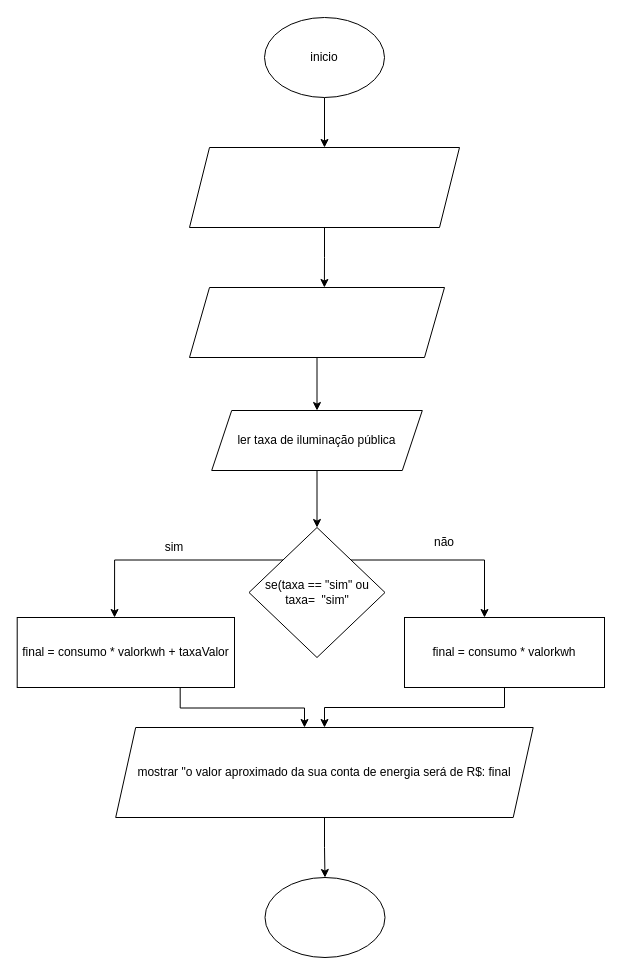
This 623x975 diagram has some shape labels left out. The centre of each missing label's shape, as x and y in pixels:
fim: point 324,917
ler consumo: point 316,322
ler consumo, valor kwh, taxaValor, final: point 324,187
